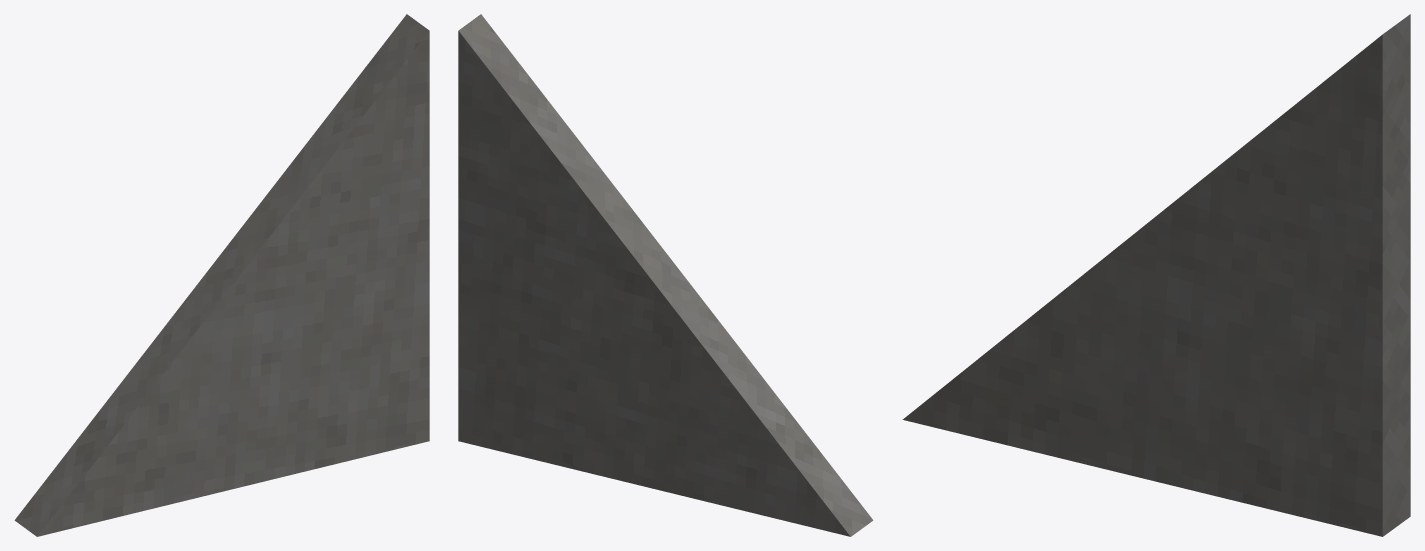
File: triangle_wall.glb
3 renders of one model, left to right at view 1: azimuth 30°, elevation 25°; view 2: azimuth 150°, elevation 25°; view 3: azimuth 330°, elevation 25°, orthographic. The views are drawn at different scales.
Parts seen in each view (by area): view 1: triangle_wall; view 2: triangle_wall; view 3: triangle_wall.
Boxes of the visible parts, box(x1,y1,x2,y2) form: triangle_wall: box(14, 14, 429, 536); triangle_wall: box(458, 14, 873, 536); triangle_wall: box(902, 14, 1410, 536).
Bounding box in the file's own units: 2 × 2 × 0.2.
Materials: 1 (1 with a texture image).
